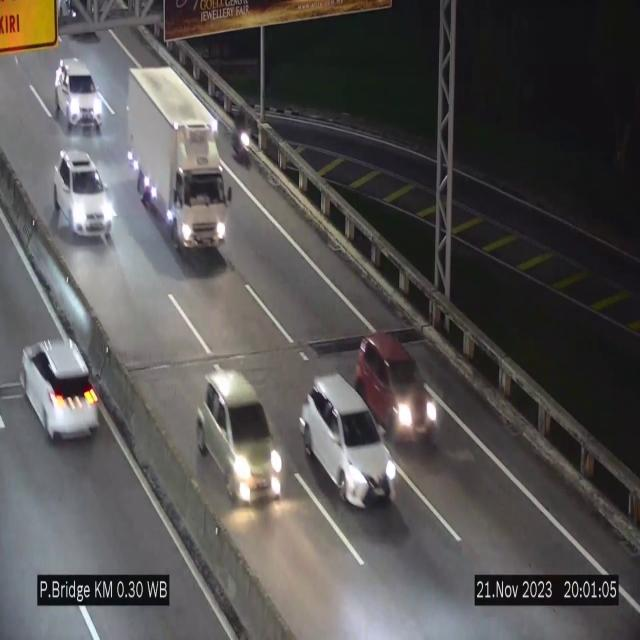Car: (10, 308, 114, 460), (299, 376, 395, 506), (196, 370, 282, 500), (352, 330, 438, 447), (54, 148, 114, 240), (50, 56, 106, 142)
Motorcycle: (230, 106, 256, 178)
Truck: (124, 61, 233, 262)
